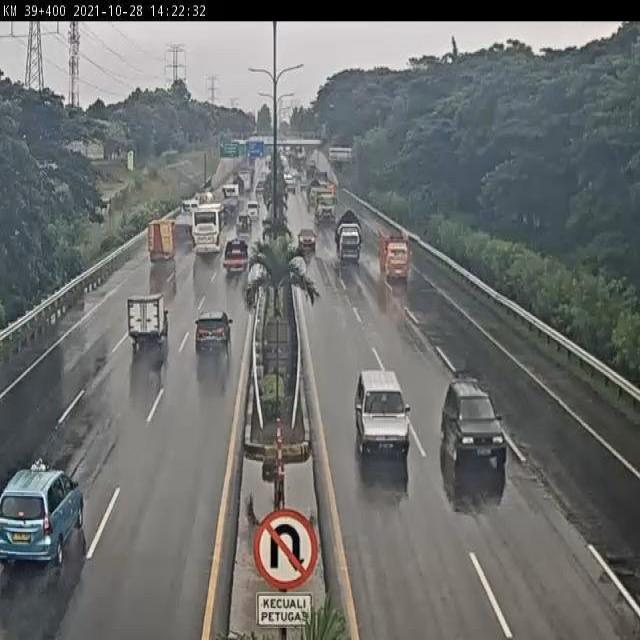big bus: (185, 206, 226, 258)
car: (353, 368, 412, 456), (124, 291, 168, 345), (195, 312, 232, 353), (296, 221, 317, 251), (232, 217, 254, 243), (242, 198, 260, 222)
truck-l-: (167, 198, 204, 234), (219, 178, 243, 218), (315, 188, 339, 227)
truck-s-: (144, 218, 178, 266), (382, 232, 414, 281), (337, 208, 364, 264), (224, 238, 252, 278)
